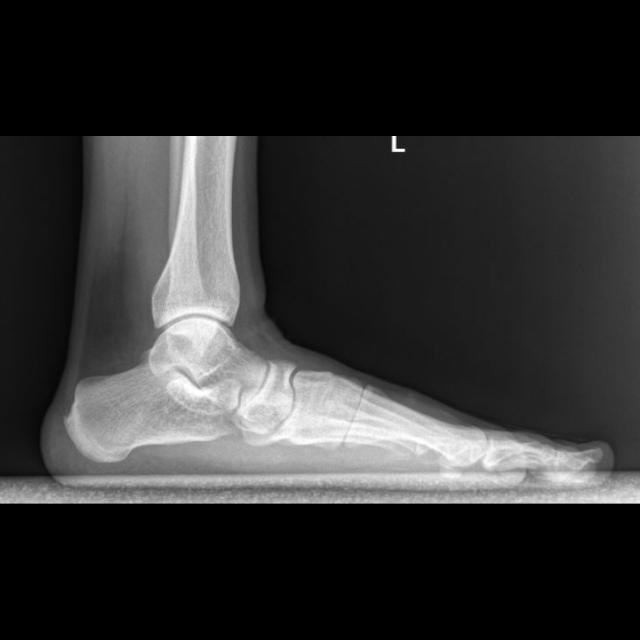a: (63, 362, 240, 463)
b: (241, 360, 298, 434)
c: (344, 387, 486, 464)
